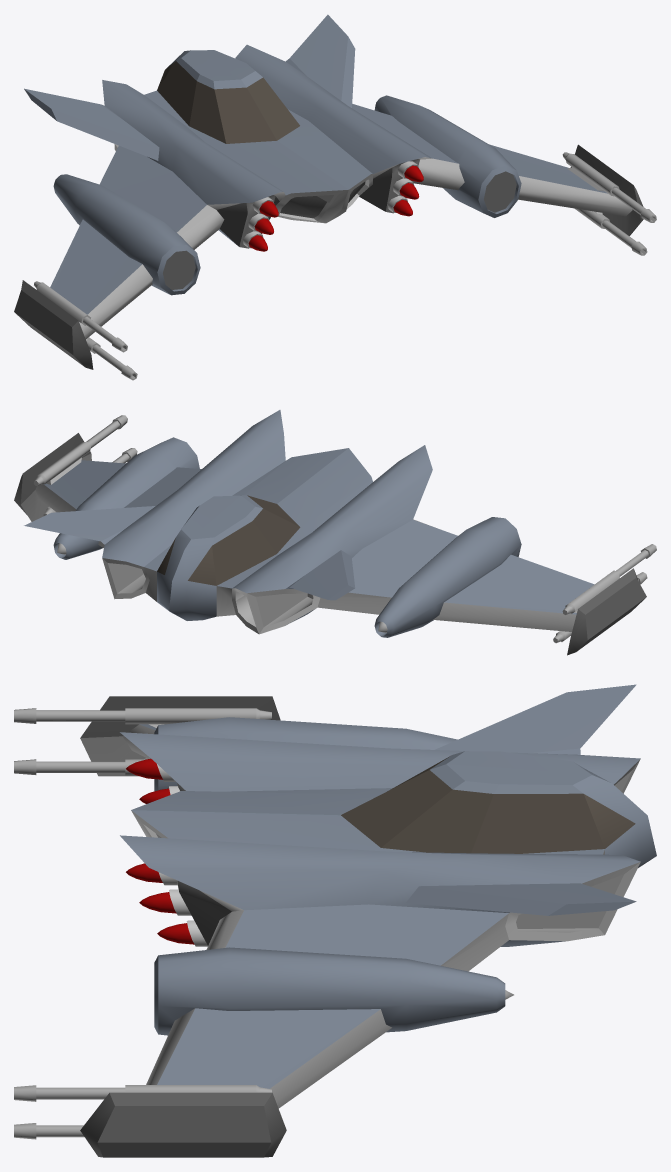
File: esxolus_mid_model.fbx
3 renders of one model, top to bottom at view 1: azimuth 30°, elevation 25°; view 2: azimuth 150°, elevation 25°; view 3: azimuth 270°, elevation 25°, orthographic. The views are drawn at different scales.
Parts seen in each view (by area): view 1: polySurface13; view 2: polySurface13; view 3: polySurface13.
Boxes of the visible parts, x1,y1,x2,y2 form: polySurface13: (14,14,656,380); polySurface13: (14,410,656,655); polySurface13: (14,684,656,1157).
Size of the model in its own units: 37.28 by 8.59 by 24.74.
